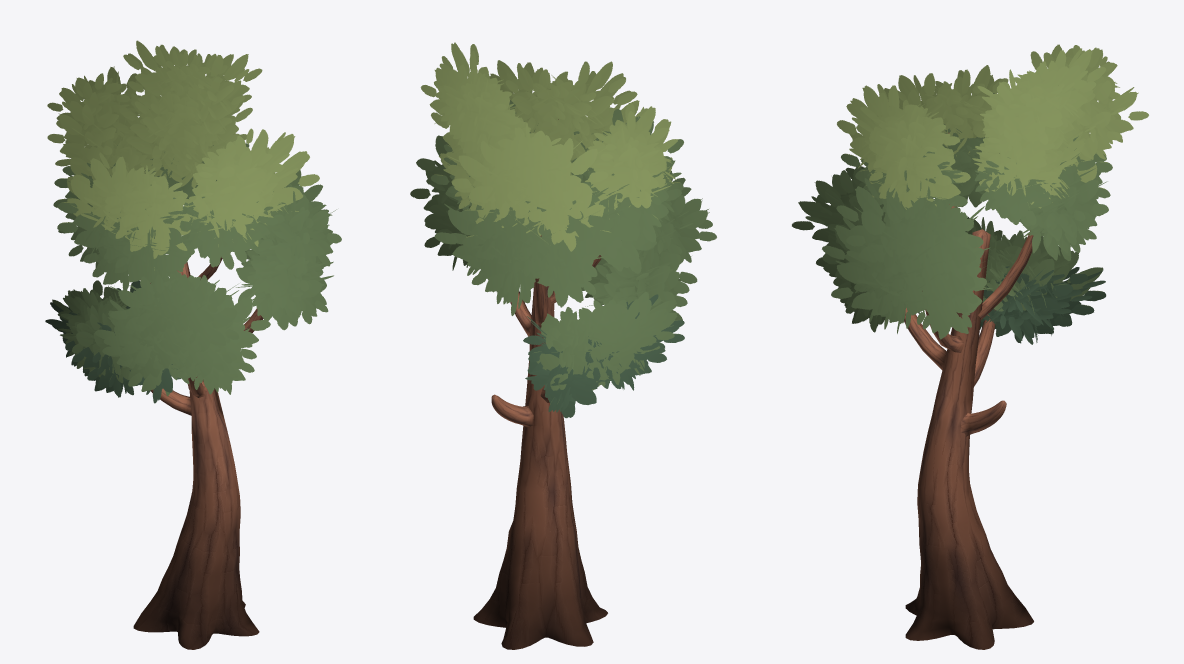
File: broadleaf-sheltered-crown.glb
The picture shows the model from 3 angles, left to right: view 1: azimuth 30°, elevation 25°; view 2: azimuth 150°, elevation 25°; view 3: azimuth 270°, elevation 25°; orthographic projection. The views are drawn at different scales.
Visible parts, largest first — view 1: broadleaf-sheltered-crown runtime mesh; view 2: broadleaf-sheltered-crown runtime mesh; view 3: broadleaf-sheltered-crown runtime mesh.
Boxes of the visible parts, x1=… form: broadleaf-sheltered-crown runtime mesh: x1=45, y1=40, x2=341, y2=649; broadleaf-sheltered-crown runtime mesh: x1=410, y1=42, x2=716, y2=649; broadleaf-sheltered-crown runtime mesh: x1=792, y1=44, x2=1148, y2=649.
Size of the model in its own units: 2.52 by 4.8 by 2.89.
2 materials, 2 textured.
